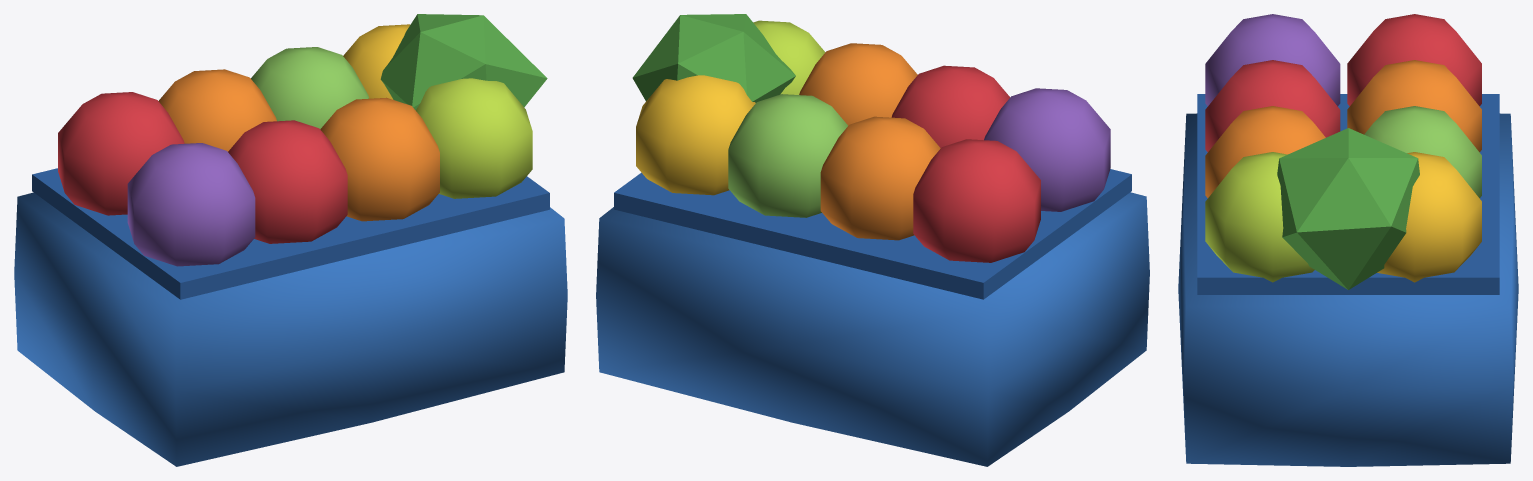
File: fruit_crate.glb
The picture shows the model from 3 angles, left to right: view 1: azimuth 30°, elevation 25°; view 2: azimuth 150°, elevation 25°; view 3: azimuth 270°, elevation 25°; orthographic projection.
Parts seen in each view (by area): view 1: root; view 2: root; view 3: root.
Part boxes in pixels (box(x1,y1,x2,y2)): root: box(14, 14, 567, 466); root: box(596, 14, 1149, 466); root: box(1178, 14, 1518, 466).
Bounding box in the file's own units: 0.5382 × 0.3645 × 0.36.
